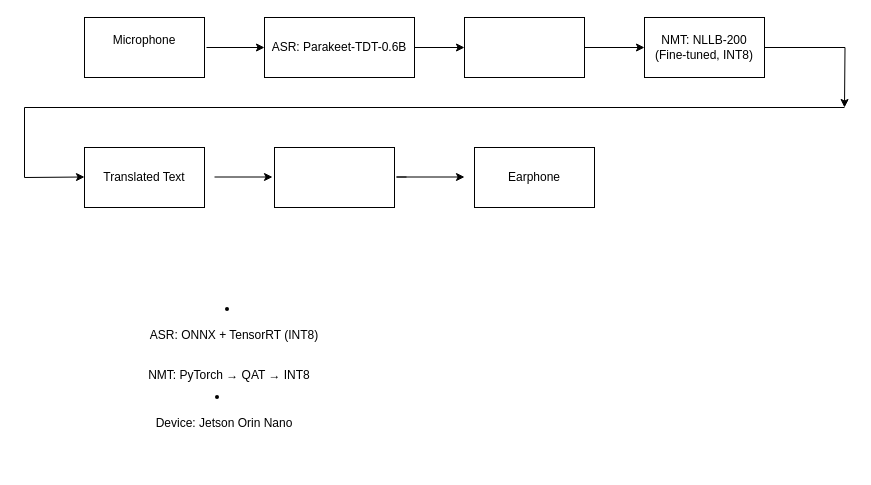
Some shapes in this 871 by 485 pixel diagram are drawn without their labels. Here are the shapes that lost their labels. From the top down, the centre of each, then its label:
At (524,47): "Text Stream".
At (334,177): "TTS: PiperTTS: Piper".
